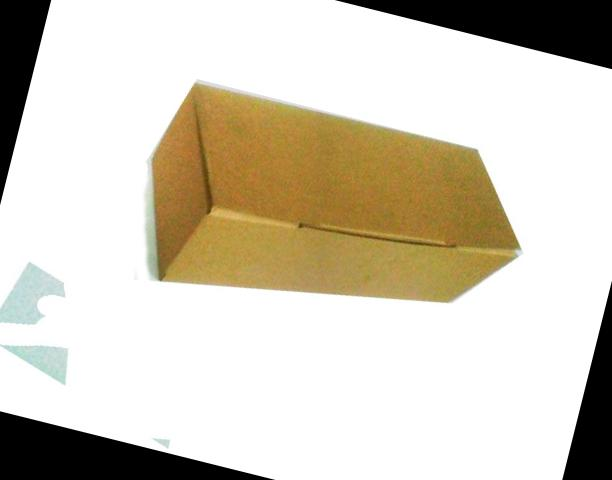Kertas: (150, 81, 520, 301)
